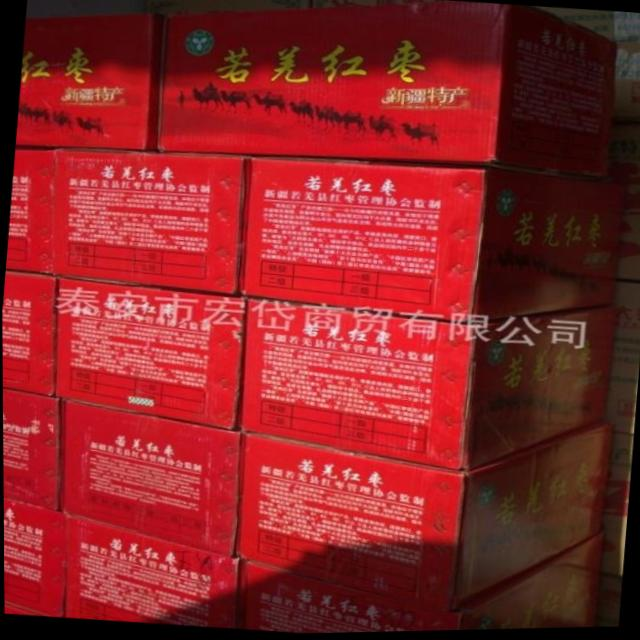box: (158, 1, 618, 181), (234, 422, 609, 614), (238, 297, 616, 474), (237, 156, 623, 325), (238, 537, 599, 634), (56, 275, 246, 432), (533, 8, 640, 285), (58, 397, 238, 560), (52, 147, 248, 296), (15, 12, 168, 151), (61, 512, 240, 629), (597, 284, 640, 630), (3, 497, 65, 617), (2, 388, 61, 511), (2, 270, 56, 397), (5, 146, 55, 275), (148, 0, 310, 15), (310, 0, 428, 9), (4, 602, 61, 617)
